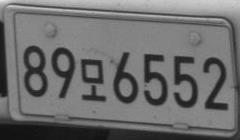2: (202, 56, 229, 111)
5: (142, 53, 168, 106), (173, 55, 199, 108)
6: (112, 51, 139, 104)
8: (22, 44, 48, 97)
9: (50, 46, 76, 99)
모: (80, 58, 107, 101)
